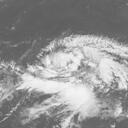cyclone: (21, 33, 103, 100)
